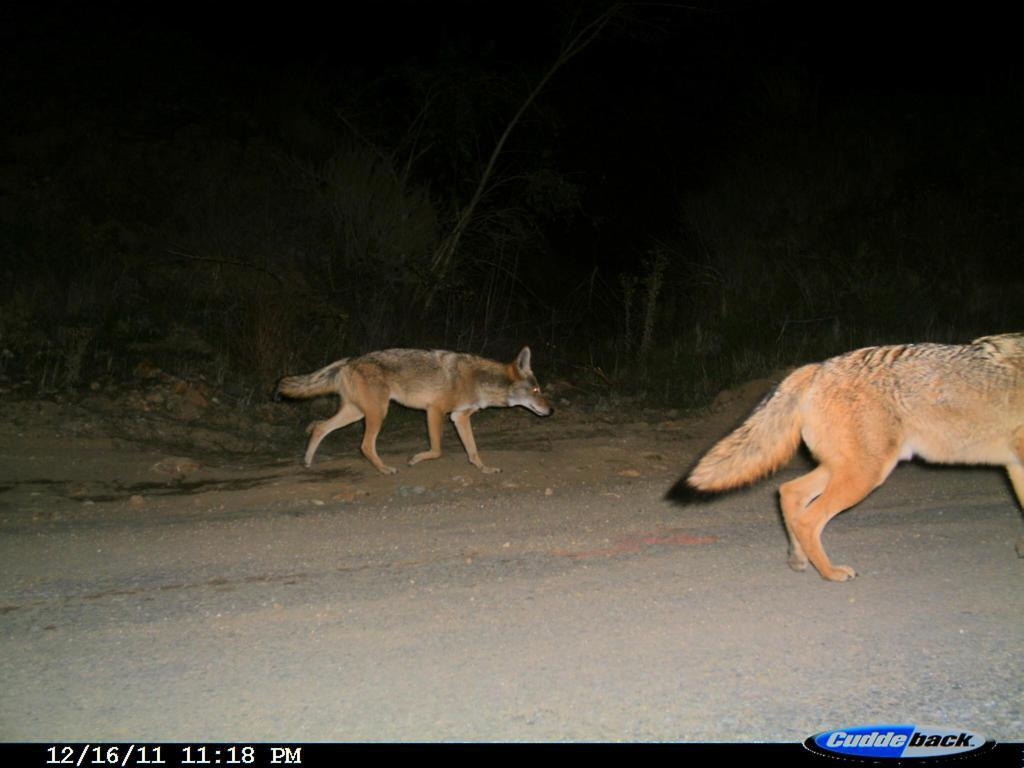coyote: (684, 333, 1022, 589), (276, 344, 556, 483)
